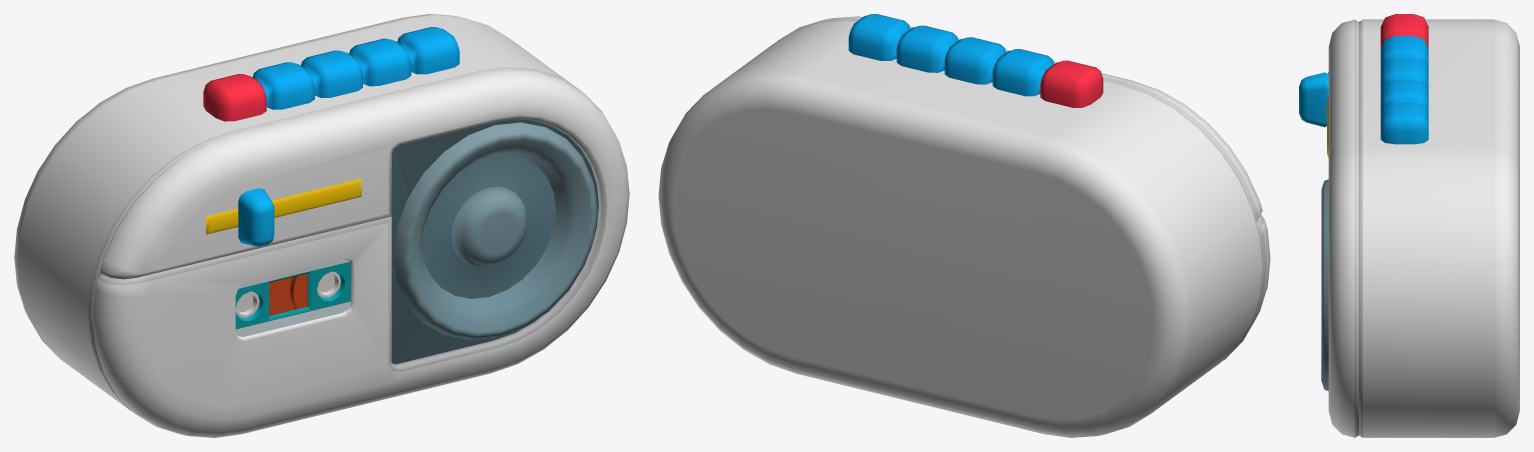
Rendered from Audio_005.fbx.
3 views of the same model, side by side, from view 1: azimuth 30°, elevation 25°; view 2: azimuth 150°, elevation 25°; view 3: azimuth 270°, elevation 25° (orthographic). The views are drawn at different scales.
Parts seen in each view (by area): view 1: Audio_005; view 2: Audio_005; view 3: Audio_005.
Boxes of the visible parts, x1,y1,x2,y2 form: Audio_005: (14,14,629,437); Audio_005: (658,14,1270,437); Audio_005: (1299,14,1519,437).
Size of the model in its own units: 30 by 11.55 by 17.48.
